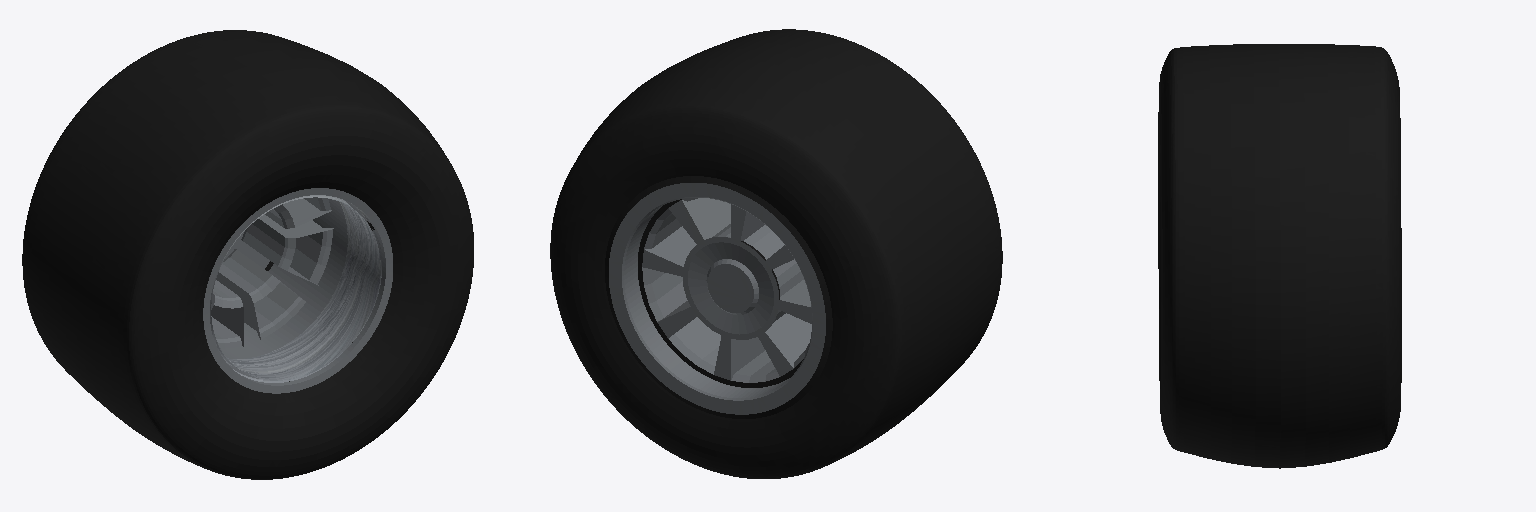
3 renders of one model, left to right at view 1: azimuth 30°, elevation 25°; view 2: azimuth 150°, elevation 25°; view 3: azimuth 270°, elevation 25°, orthographic.
Visible parts, largest first — view 1: front_right_front_wheels_right_Rim_inner.001_Circle; view 2: front_right_front_wheels_right_Rim_inner.001_Circle; view 3: front_right_front_wheels_right_Rim_inner.001_Circle.
Boxes of the visible parts, x1=… form: front_right_front_wheels_right_Rim_inner.001_Circle: x1=22, y1=30, x2=473, y2=479; front_right_front_wheels_right_Rim_inner.001_Circle: x1=550, y1=29, x2=1002, y2=478; front_right_front_wheels_right_Rim_inner.001_Circle: x1=1158, y1=44, x2=1401, y2=468.
Size of the model in its own units: 0.4238 by 0.4236 by 0.2426.
1 materials, 1 textured.